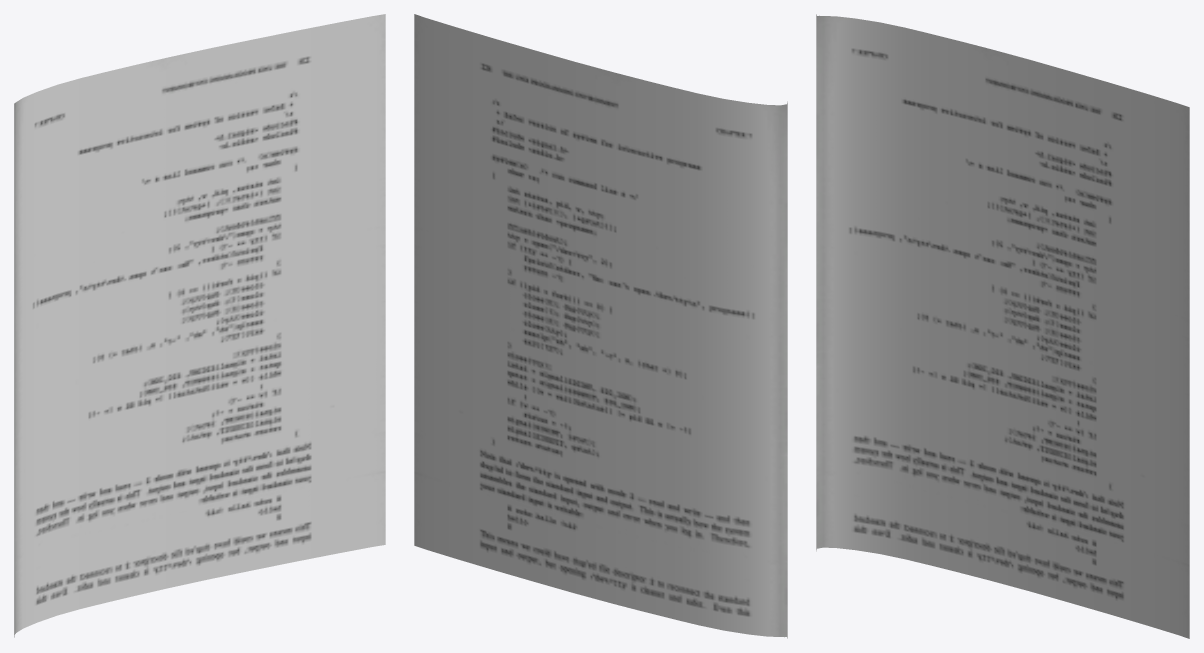
The model's file is MeshBookFront_9_1_GeomSubset_2.obj.
The picture shows the model from 3 angles, left to right: view 1: azimuth 30°, elevation 25°; view 2: azimuth 150°, elevation 25°; view 3: azimuth 330°, elevation 25°; orthographic projection.
Parts seen in each view (by area): view 1: MeshBookFront_9_1_GeomSubset_2; view 2: MeshBookFront_9_1_GeomSubset_2; view 3: MeshBookFront_9_1_GeomSubset_2.
Part boxes in pixels (box(x1,y1,x2,y2)): MeshBookFront_9_1_GeomSubset_2: box(14, 14, 385, 637); MeshBookFront_9_1_GeomSubset_2: box(414, 14, 787, 638); MeshBookFront_9_1_GeomSubset_2: box(816, 14, 1189, 638).
Size of the model in its own units: 0.1621 by 0.2237 by 0.0085.
